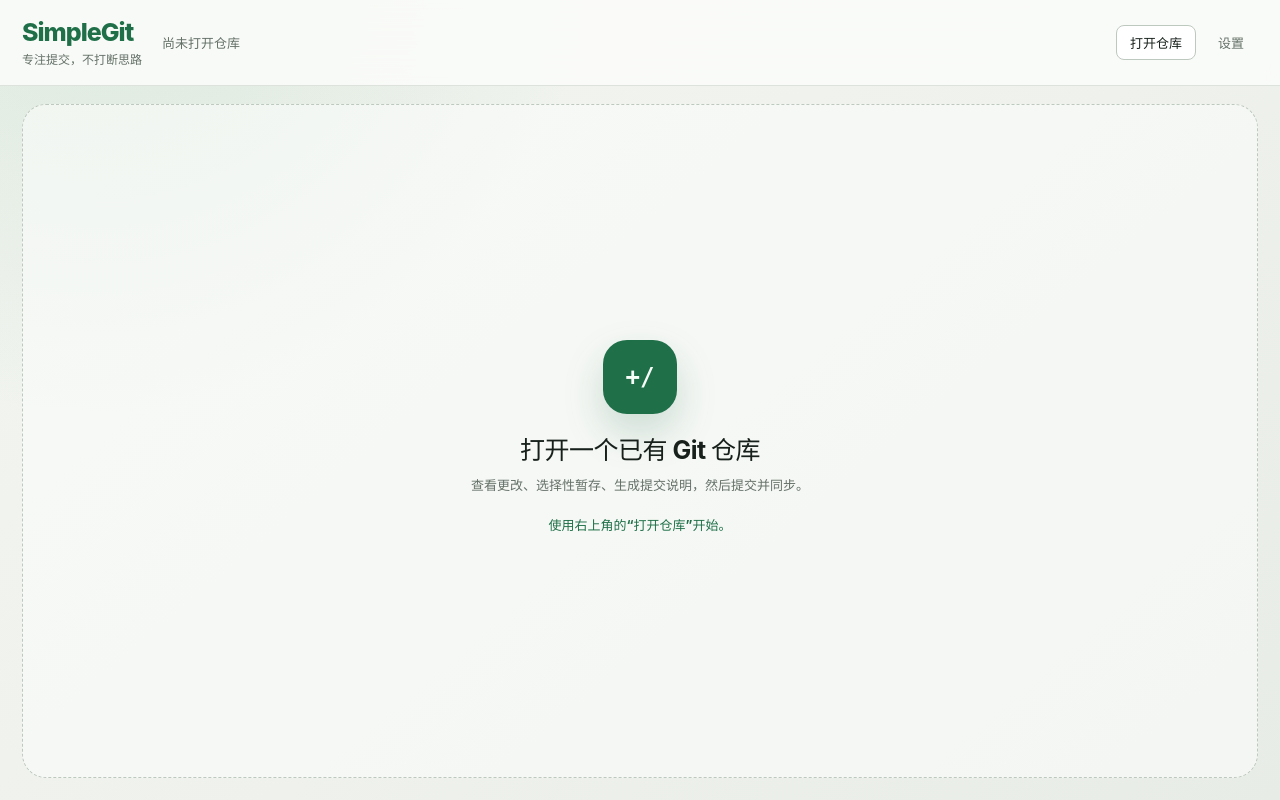
Test: SimpleGit main workspace › keeps the editor content and shows Git details after a failed commit
The image size is (1280, 800).
Click the button "打开仓库": (1156, 42) [1116,25,1196,60]
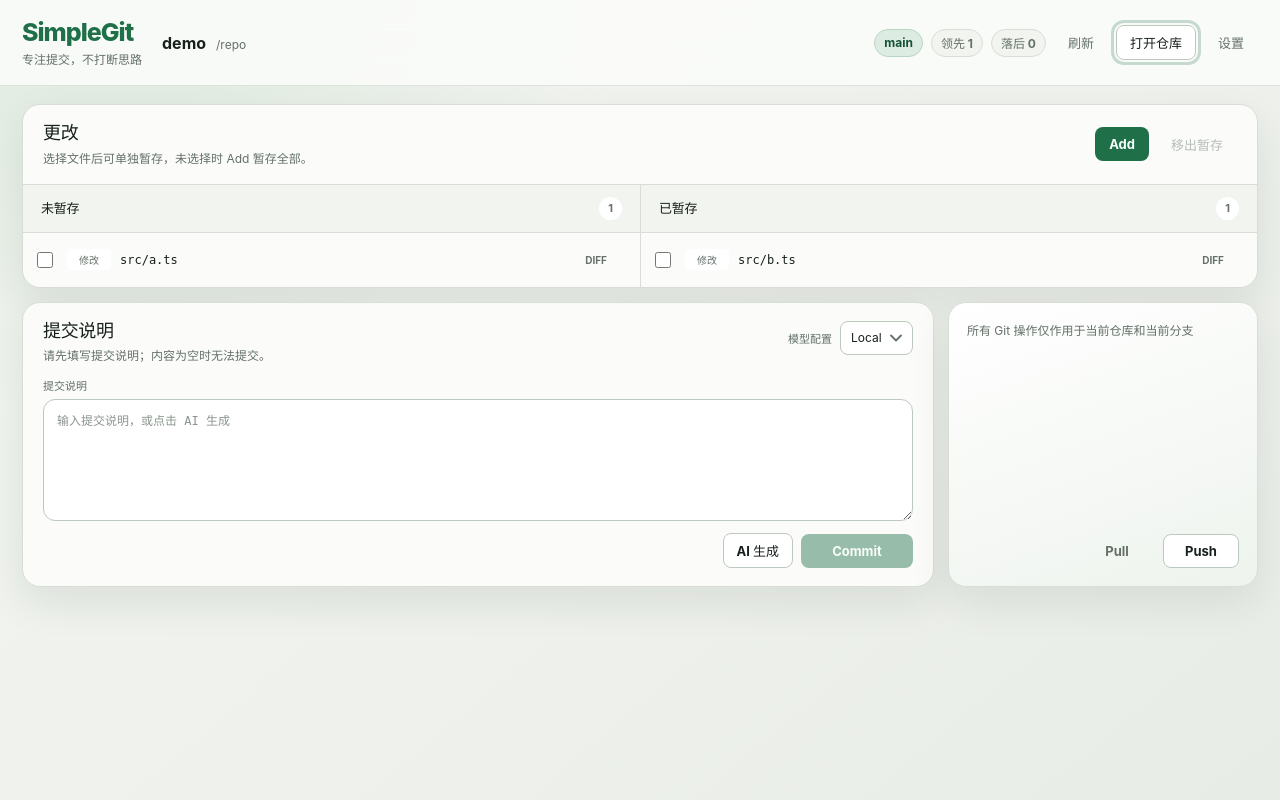
Check: the text "demo" is shown, box [162,32,206,52]
In the text box labelled "提交说明": (478, 460) [43,399,913,521], type "feat: 保留内容"
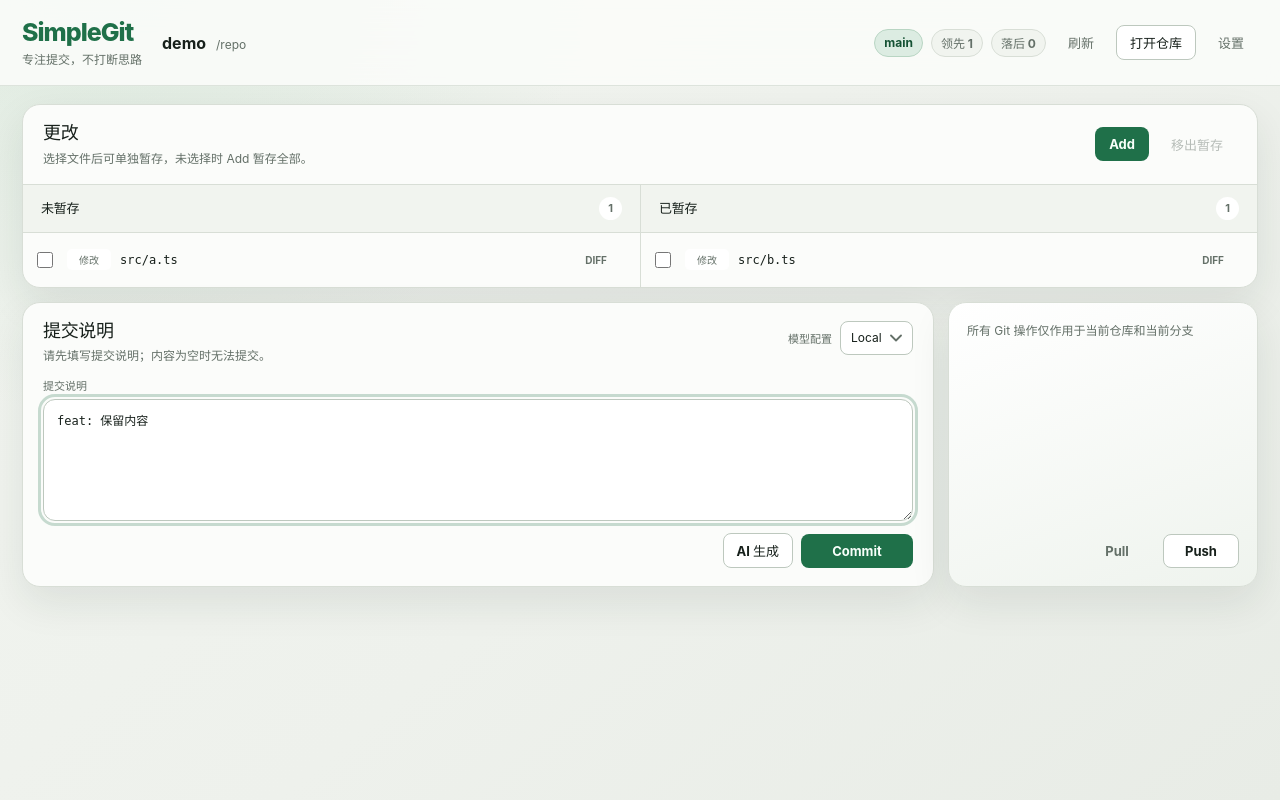
Click the button "Commit": (857, 551) [801,534,913,568]
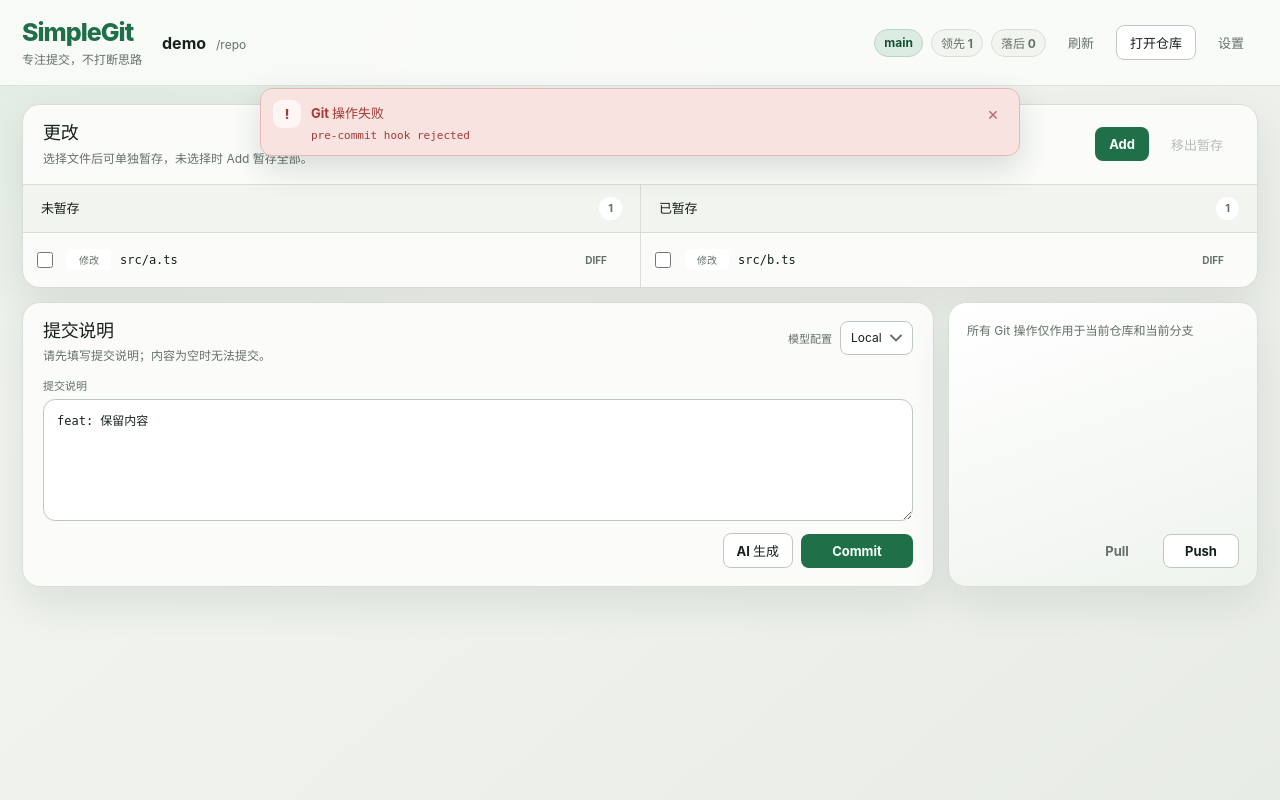
Check: the message "! Git 操作失败 pre-commit hook rejected ×" is shown, box [260,88,1020,156]
